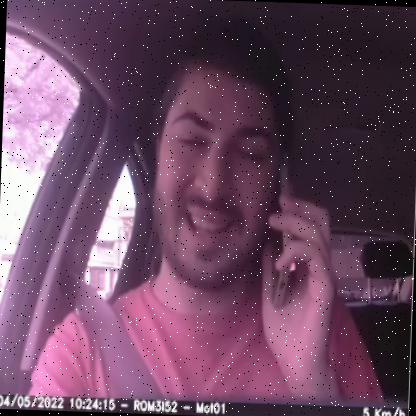phone: (258, 142, 310, 314)
